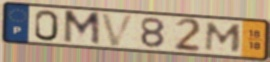0: (33, 9, 61, 42)
2: (173, 17, 203, 53)
8: (139, 16, 167, 49)
M: (62, 9, 102, 47), (203, 21, 244, 54)
V: (99, 12, 138, 48)
